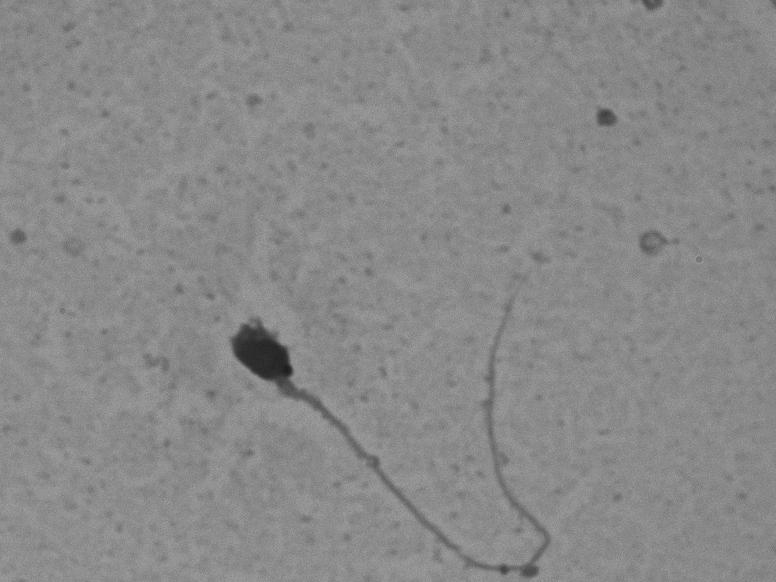Abnormal: (159, 278, 594, 576)
